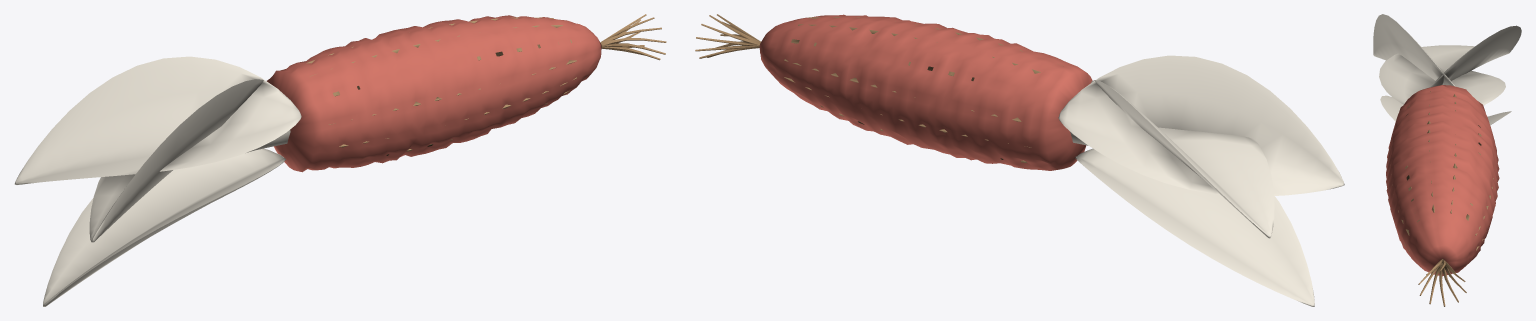
The model's file is food_corn.glb.
The picture shows the model from 3 angles, left to right: view 1: azimuth 30°, elevation 25°; view 2: azimuth 150°, elevation 25°; view 3: azimuth 270°, elevation 25°; orthographic projection. The views are drawn at different scales.
Visible parts, largest first — view 1: PART; view 2: PART; view 3: PART.
Boxes of the visible parts, x1,y1,x2,y2 form: PART: (14,14,666,306); PART: (695,14,1344,306); PART: (1373,14,1521,306).
Size of the model in its own units: 0.2848 by 0.0875 by 0.0674.
